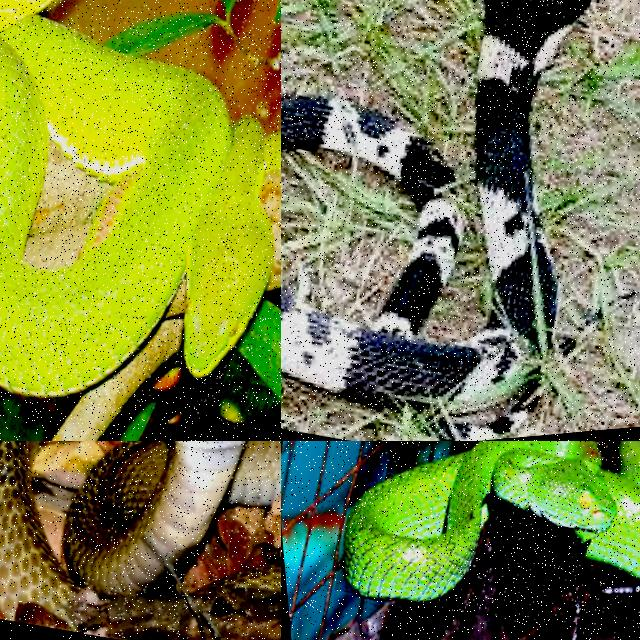Naja siamensis: (281, 0, 590, 402), (65, 441, 280, 595)
Trimeresurus: (0, 0, 231, 395)
Trimeresurus macrops: (343, 441, 639, 601)
snake: (281, 0, 590, 402), (0, 0, 231, 395), (343, 441, 639, 601), (65, 441, 280, 595)
